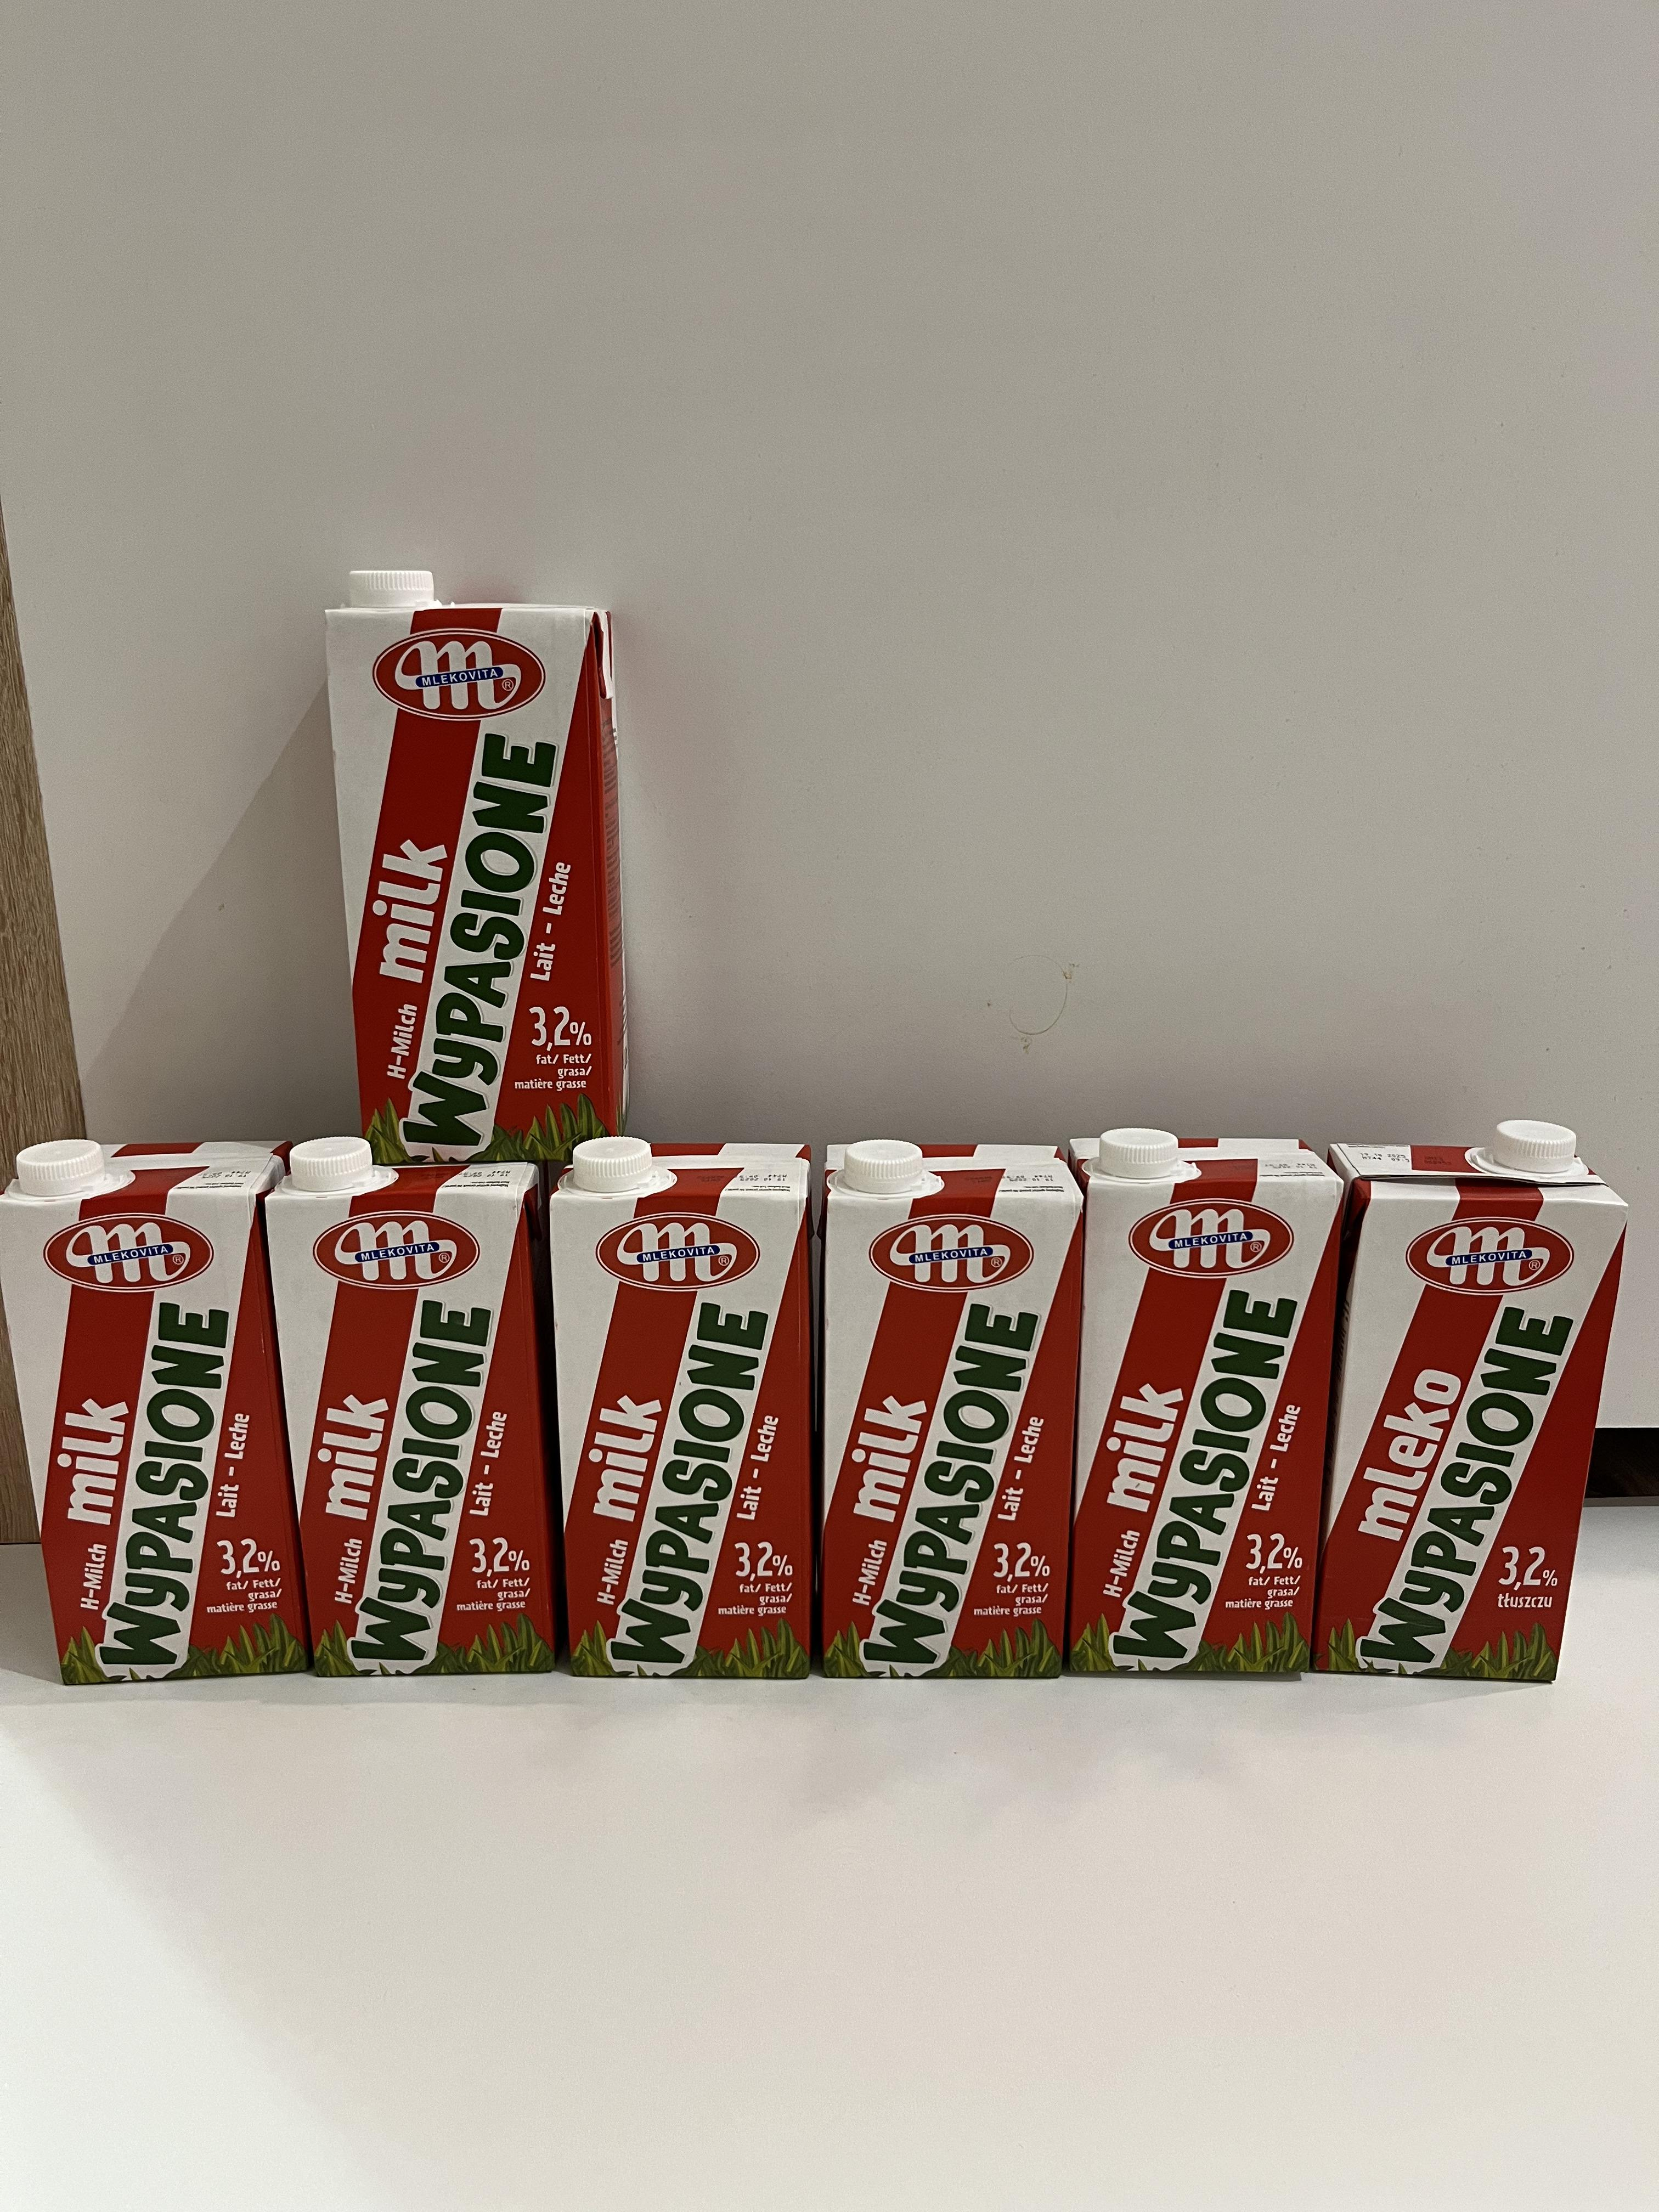Milk: (328, 590, 634, 1177), (275, 1186, 575, 1689), (14, 1179, 293, 1686), (824, 1167, 1089, 1693), (558, 1177, 830, 1686), (1344, 1144, 1577, 1698), (1096, 1151, 1333, 1679)
